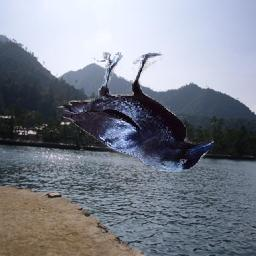Crow: (64, 50, 215, 172)
